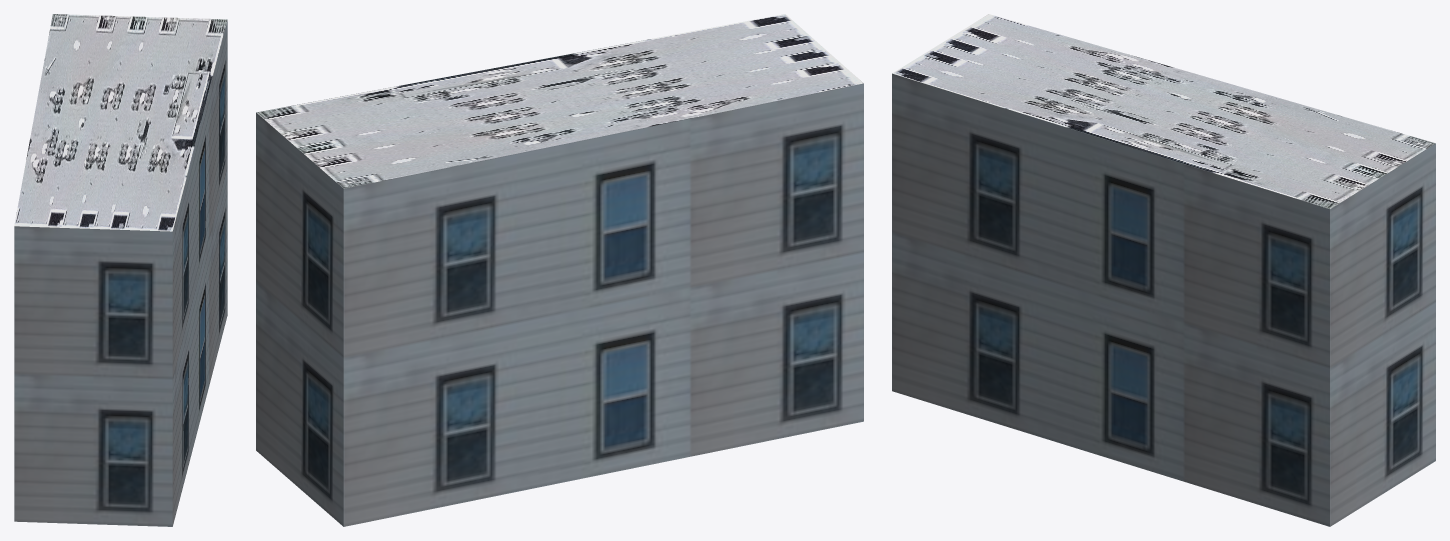
Rendered from ResTex__3224.fbx.
3 views of the same model, side by side, from view 1: azimuth 30°, elevation 25°; view 2: azimuth 150°, elevation 25°; view 3: azimuth 270°, elevation 25° (orthographic). The views are drawn at different scales.
Visible parts, largest first — view 1: CityEngineMaterial_18_m, CityEngineMaterial_8_m; view 2: CityEngineMaterial_18_m, CityEngineMaterial_8_m; view 3: CityEngineMaterial_18_m, CityEngineMaterial_8_m.
Part boxes in pixels (x1=…): CityEngineMaterial_18_m: x1=14, y1=20, x2=227, y2=526; CityEngineMaterial_8_m: x1=14, y1=14, x2=227, y2=231; CityEngineMaterial_18_m: x1=256, y1=83, x2=863, y2=526; CityEngineMaterial_8_m: x1=256, y1=14, x2=863, y2=188; CityEngineMaterial_18_m: x1=892, y1=73, x2=1435, y2=526; CityEngineMaterial_8_m: x1=892, y1=14, x2=1435, y2=208.
Bounding box in the file's own units: 7.91 × 6 × 9.31.
Materials: 2 (2 with a texture image).
